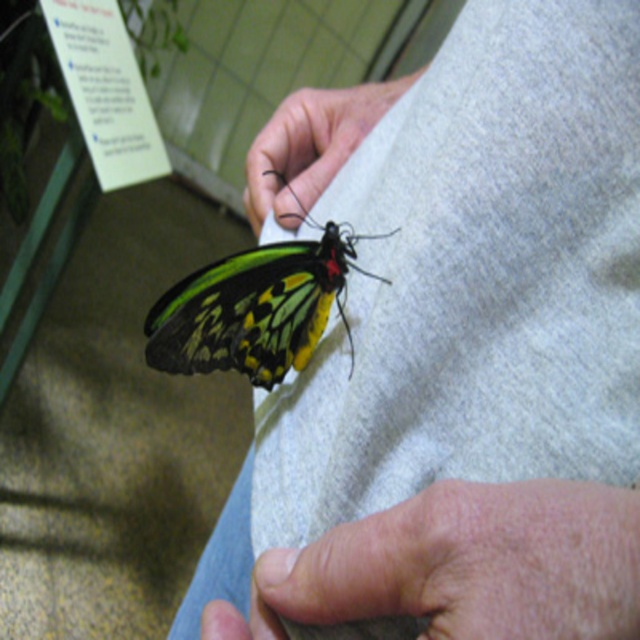Butterfly: (142, 169, 403, 399)
